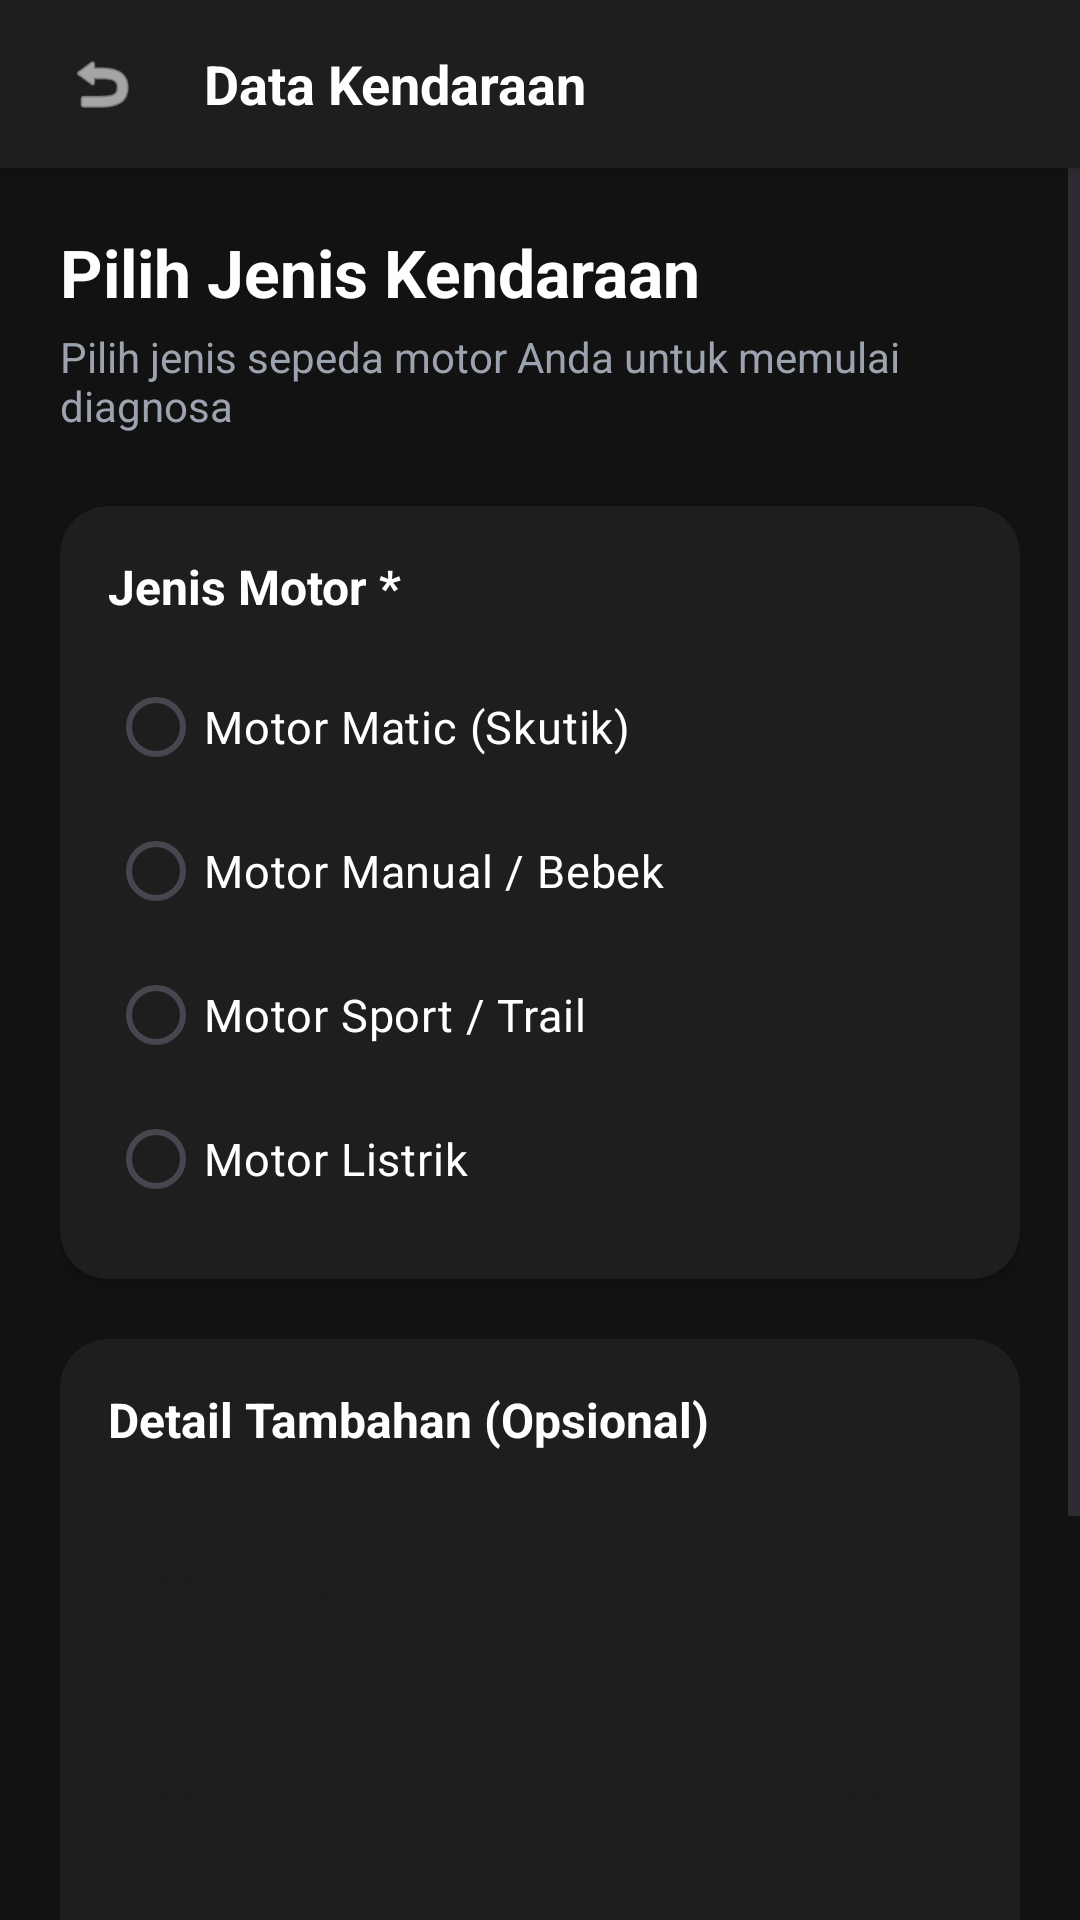

Locate icon controls on the screen. Image size 1080*1920, boxes as [x1,y1,x2,y2].
Kembali: [77,61,129,108]
